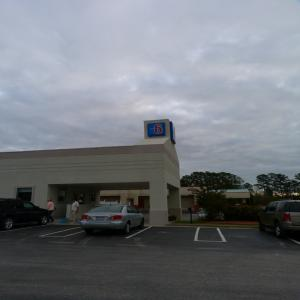Vehicle-registration-plate: (96, 218, 107, 222)
